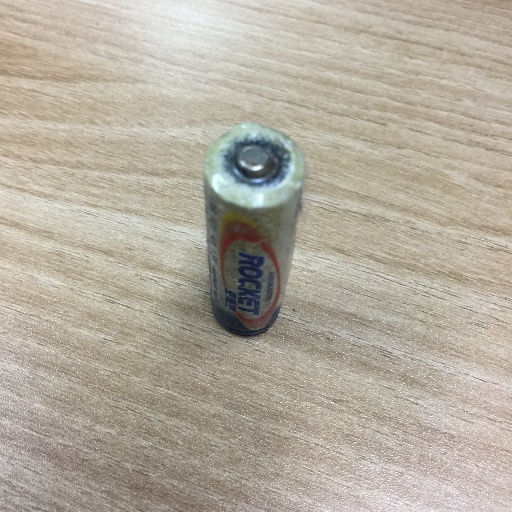Battery_0: (198, 109, 315, 371)
